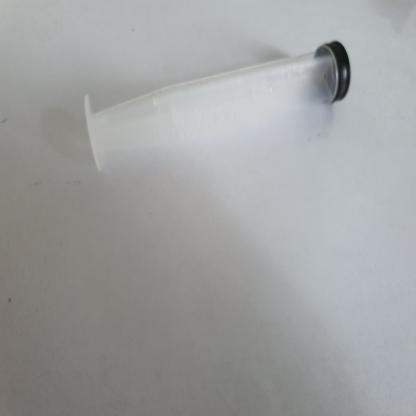wet: (90, 38, 337, 170)
